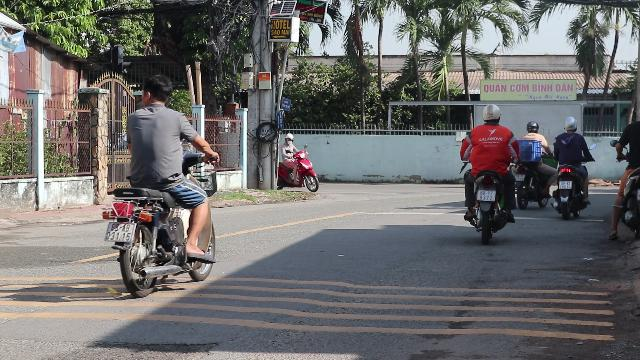licenseplate: (104, 222, 134, 242), (481, 104, 501, 124), (477, 190, 495, 200)
motorcyclist: (100, 70, 222, 294), (458, 103, 518, 241)
nohelmet: (139, 74, 173, 108)
